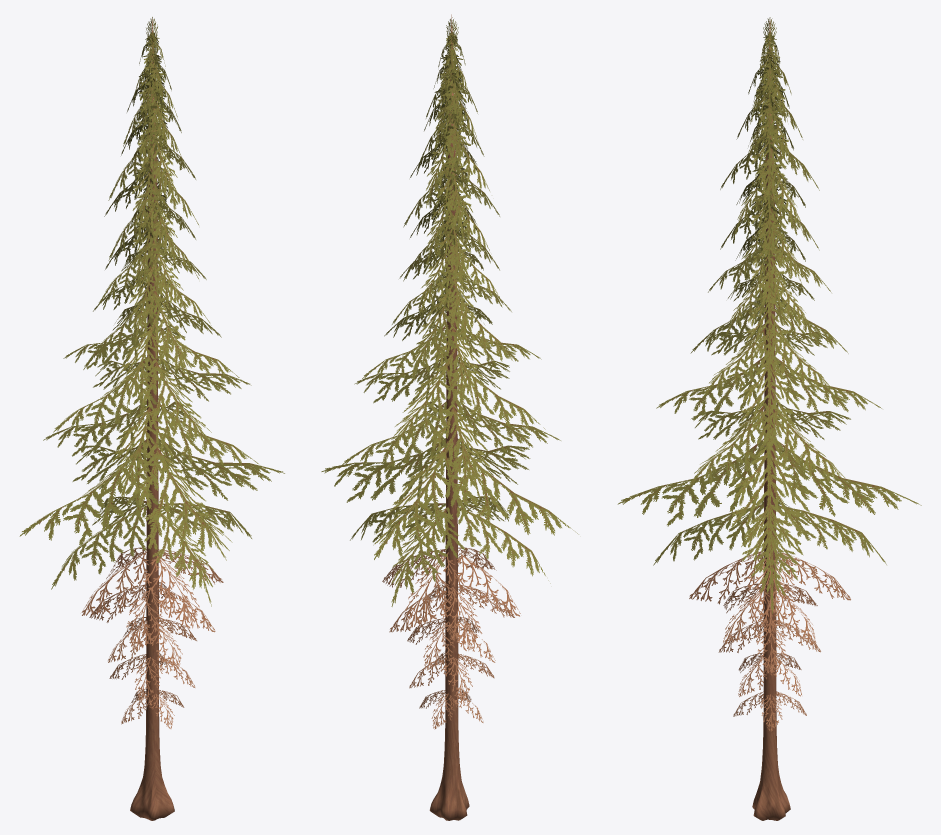
The model's file is SM_Spruce_01.glb.
3 views of the same model, side by side, from view 1: azimuth 30°, elevation 25°; view 2: azimuth 150°, elevation 25°; view 3: azimuth 270°, elevation 25° (orthographic).
Parts seen in each view (by area): view 1: SM_Spruce_01; view 2: SM_Spruce_01; view 3: SM_Spruce_01.
Part boxes in pixels (x1=…): SM_Spruce_01: x1=19, y1=17, x2=284, y2=820; SM_Spruce_01: x1=321, y1=14, x2=578, y2=820; SM_Spruce_01: x1=617, y1=17, x2=921, y2=820.
Size of the model in its own units: 5.84 by 16.52 by 5.84.
1 material, 1 textured.
